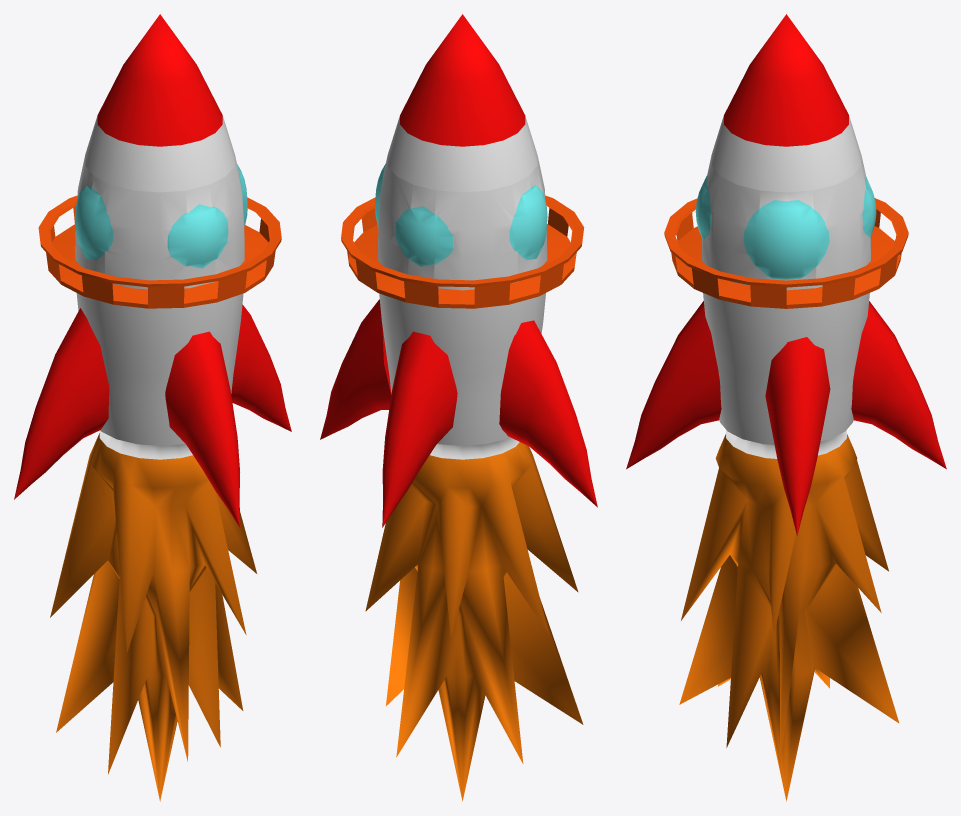
The model's file is rocket.obj.
3 views of the same model, side by side, from view 1: azimuth 30°, elevation 25°; view 2: azimuth 150°, elevation 25°; view 3: azimuth 270°, elevation 25° (orthographic).
Parts seen in each view (by area): view 1: group2_pasted__pSphere1, pCone1, pasted__pCone2 group, pCone2, pTorus1, pTorus2; view 2: group2_pasted__pSphere1, pCone1, pasted__pCone2 group, pCone2, pTorus1, pTorus2; view 3: group2_pasted__pSphere1, pCone1, pCone2, pasted__pCone2 group, pTorus1, pTorus2.
Boxes of the visible parts, x1,y1,x2,y2 form: group2_pasted__pSphere1: (75,14,247,459); pCone1: (50,433,256,801); pasted__pCone2 group: (14,304,291,499); pCone2: (165,331,240,527); pTorus1: (46,206,275,308); pTorus2: (38,195,281,287); group2_pasted__pSphere1: (375,14,547,459); pCone1: (365,442,583,801); pasted__pCone2 group: (320,299,597,507); pCone2: (382,331,457,527); pTorus1: (347,208,576,308); pTorus2: (341,195,584,287); group2_pasted__pSphere1: (695,14,876,458); pCone1: (679,434,899,801); pCone2: (626,301,946,469); pasted__pCone2 group: (765,337,830,535); pTorus1: (671,209,901,308); pTorus2: (664,198,908,287).
Bounding box in the file's own units: 2.42 × 6.54 × 2.42.
